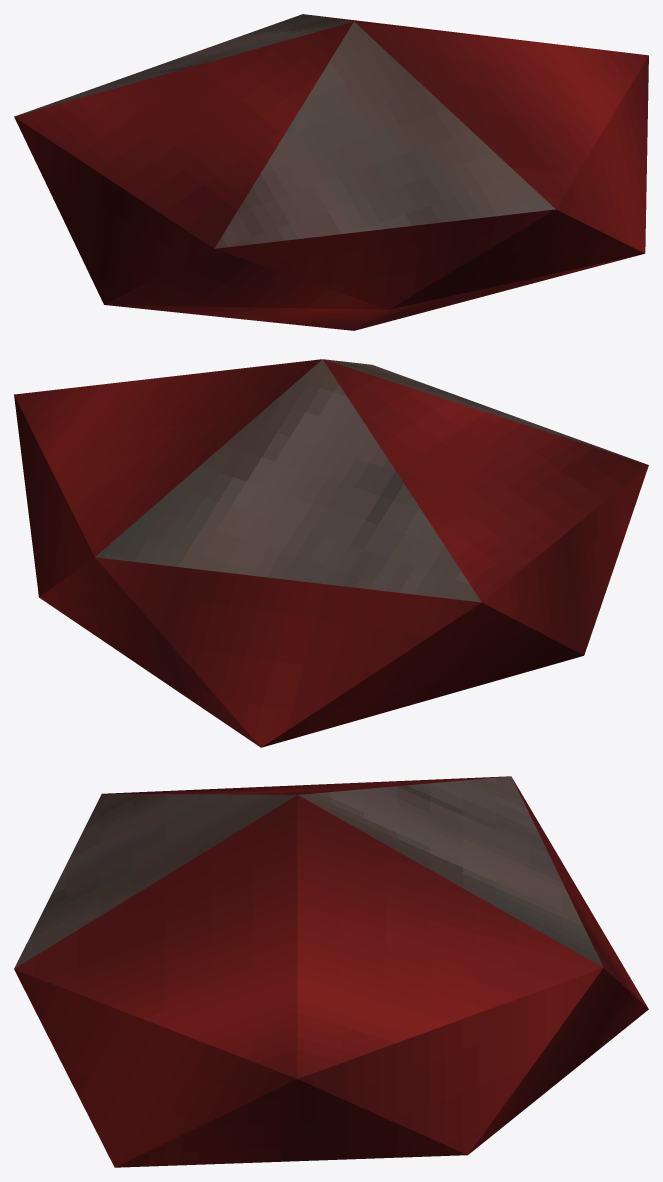
Rendered from Gib3.glb.
3 renders of one model, top to bottom at view 1: azimuth 30°, elevation 25°; view 2: azimuth 150°, elevation 25°; view 3: azimuth 270°, elevation 25°, orthographic. The views are drawn at different scales.
Visible parts, largest first — view 1: Gib3; view 2: Gib3; view 3: Gib3.
Boxes of the visible parts, x1,y1,x2,y2 form: Gib3: (14,14,648,330); Gib3: (14,359,648,747); Gib3: (14,776,648,1167).
Size of the model in its own units: 0.0847 by 0.046 by 0.0751.
1 material, 1 textured.
